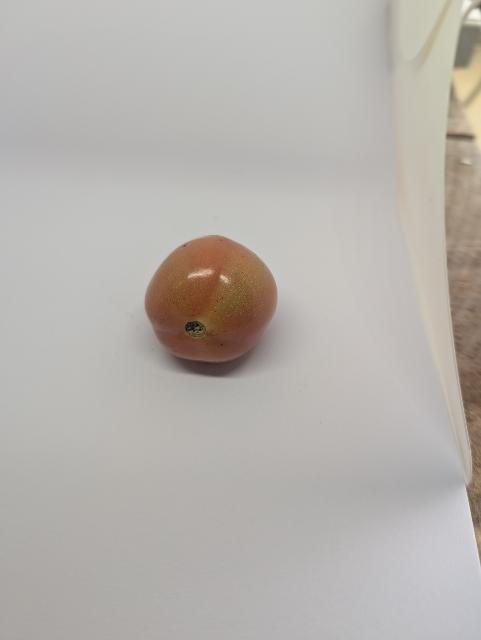turning: (137, 229, 292, 376)
